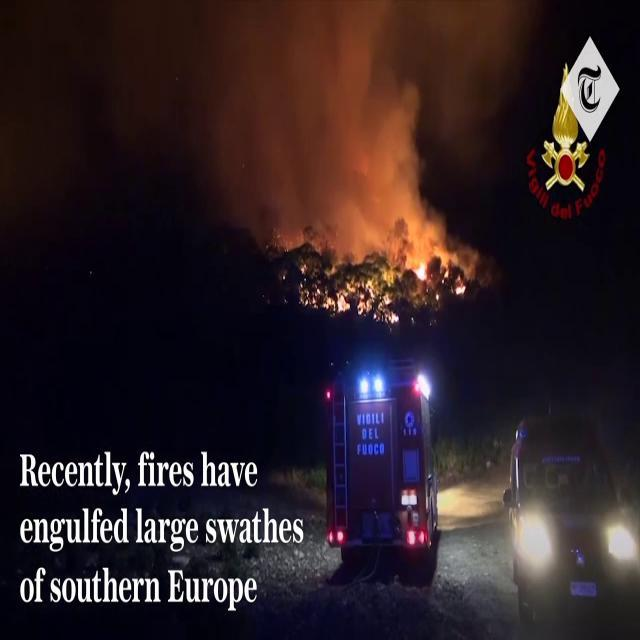Smoke: (186, 1, 448, 245)
